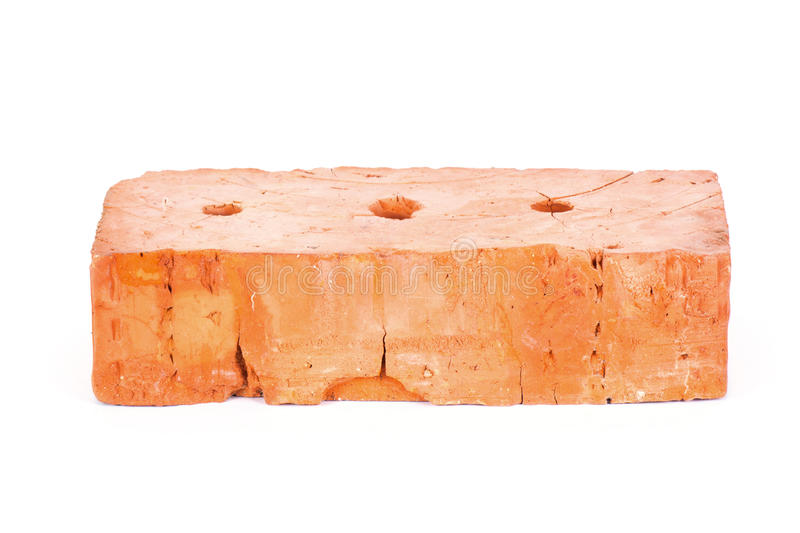brick: (94, 250, 727, 397)
